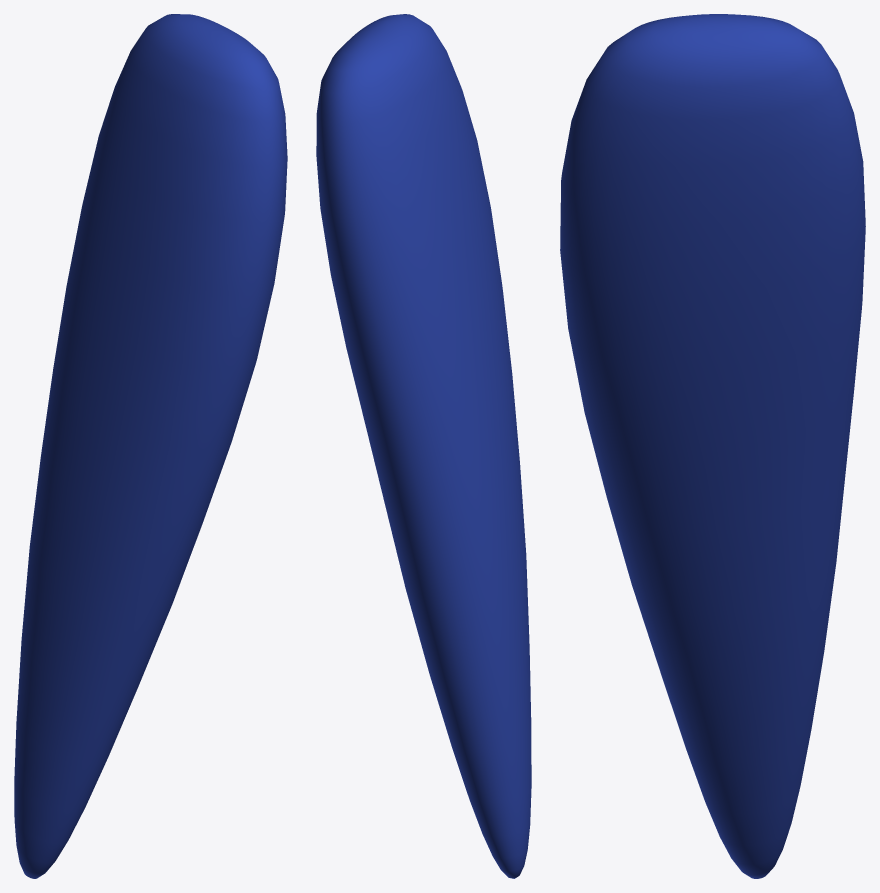
File: flipper.glb
3 views of the same model, side by side, from view 1: azimuth 30°, elevation 25°; view 2: azimuth 150°, elevation 25°; view 3: azimuth 270°, elevation 25° (orthographic). The views are drawn at different scales.
Parts seen in each view (by area): view 1: Sphere.003; view 2: Sphere.003; view 3: Sphere.003.
Part boxes in pixels (left/top/right/bottom): Sphere.003: left=14, top=14, right=287, bottom=878; Sphere.003: left=316, top=14, right=531, bottom=878; Sphere.003: left=560, top=14, right=865, bottom=878.
Bounding box in the file's own units: 4.32 × 15.81 × 4.63.
